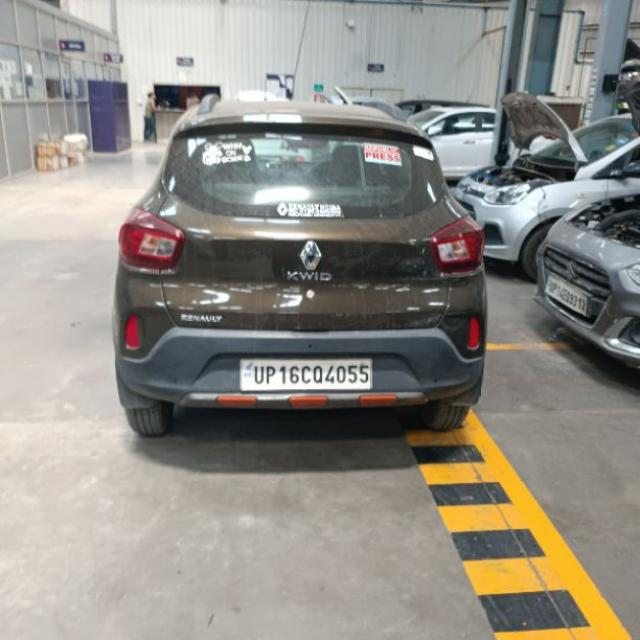license_plate: (238, 356, 374, 391), (543, 272, 592, 317)
